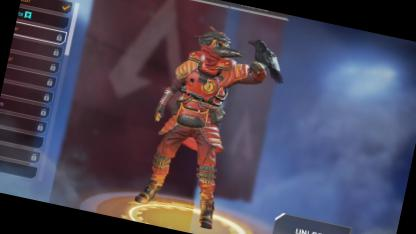Target: (148, 20, 248, 212)
